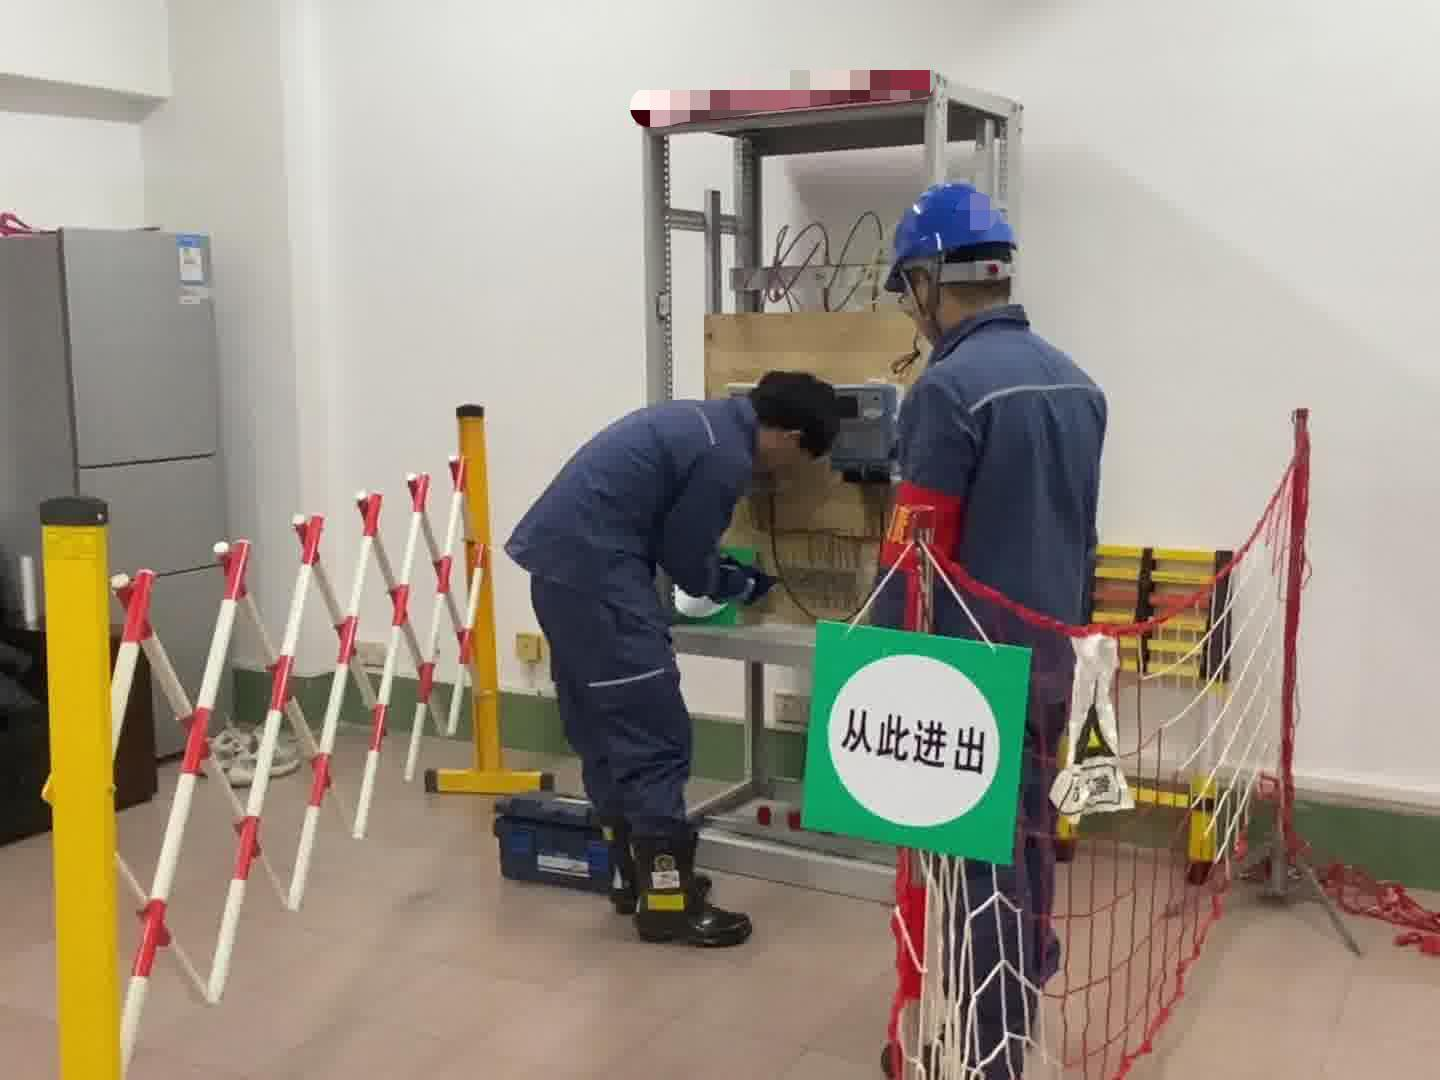halt: (887, 182, 1026, 328)
inear: (904, 262, 948, 328)
noear: (773, 420, 812, 463)
unhalt: (748, 369, 852, 489)
